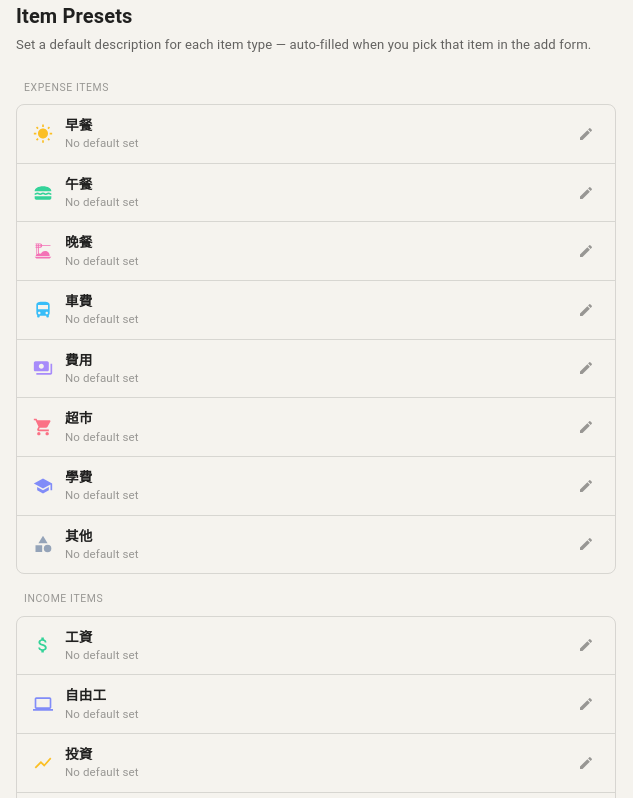
Test: ManageItemsPage › shows text field when edit button is clicked
Click the button without text in the row of "早餐" at (586, 134), box [573,121,599,147]
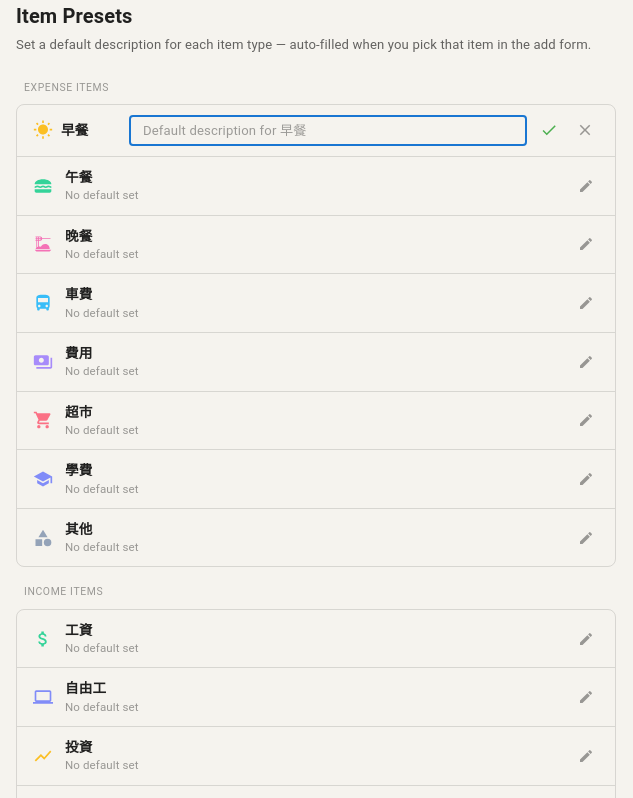
Check: the field is shown, box [129,115,527,146]
